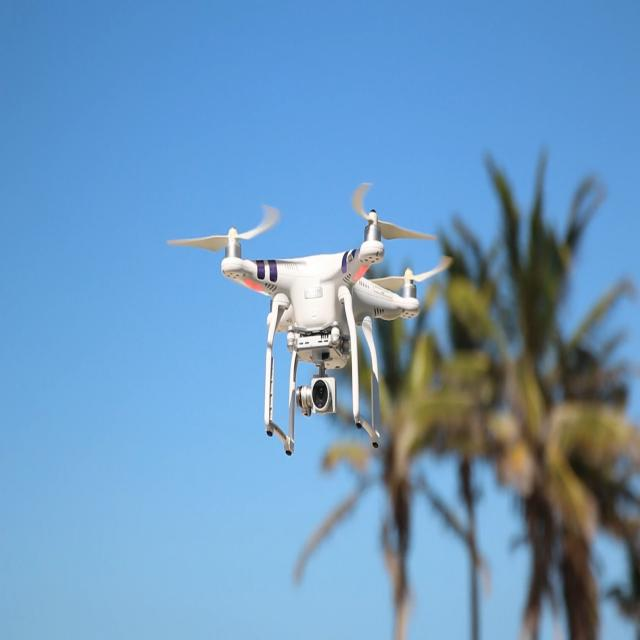Drone: (150, 189, 448, 460)
